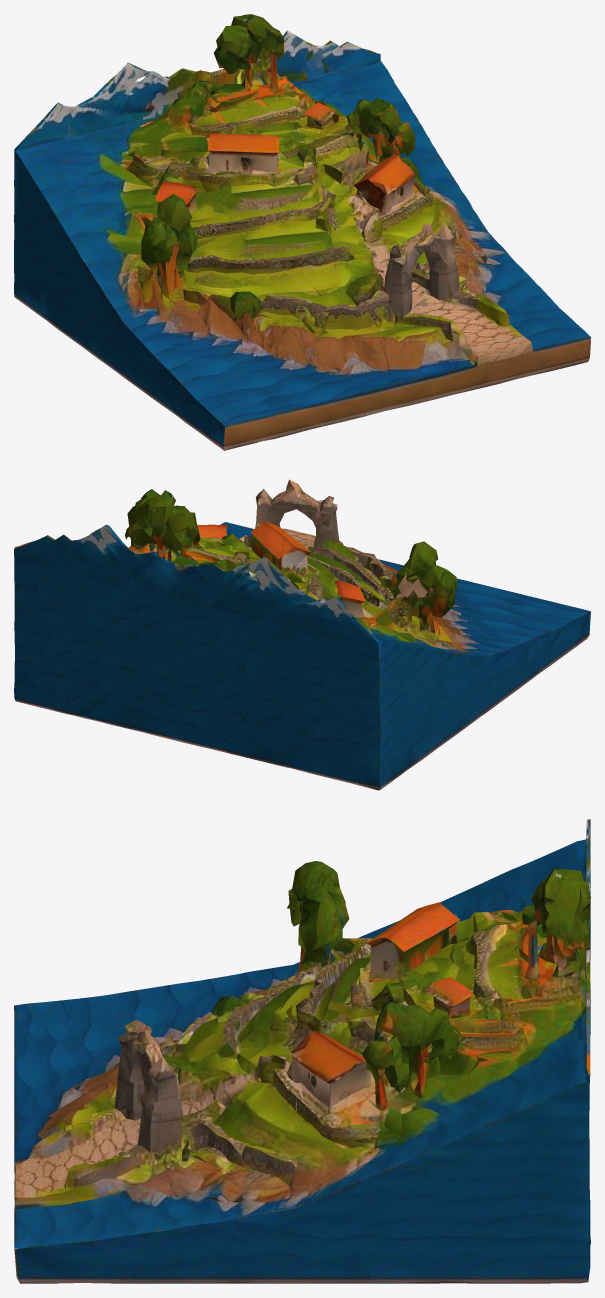
The model's file is taquile-island.glb.
3 renders of one model, top to bottom at view 1: azimuth 30°, elevation 25°; view 2: azimuth 150°, elevation 25°; view 3: azimuth 270°, elevation 25°, orthographic. The views are drawn at different scales.
Parts seen in each view (by area): view 1: logan-textured.obj; view 2: logan-textured.obj; view 3: logan-textured.obj.
Boxes of the visible parts, <box> form: logan-textured.obj: <box>14,14,590,450</box>; logan-textured.obj: <box>14,479,590,790</box>; logan-textured.obj: <box>14,819,590,1283</box>.
Bounding box in the file's own units: 1 × 0.6207 × 0.9995.
1 material, 1 textured.
